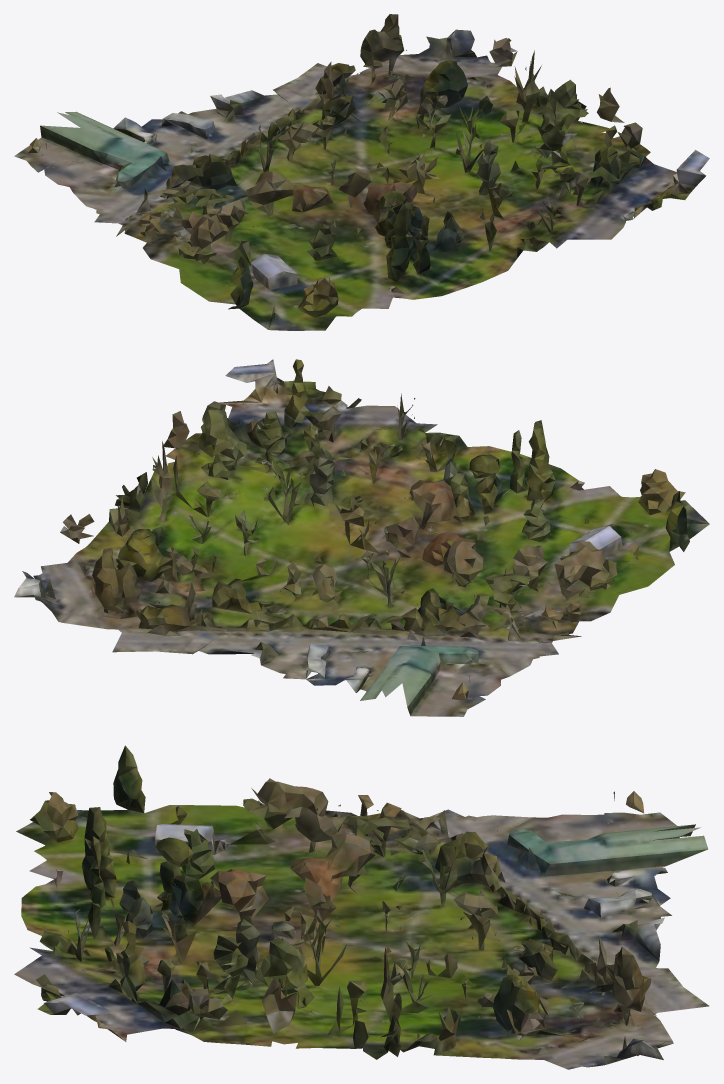
File: Tile_013_011_L16.gltf
3 views of the same model, one above another, from view 1: azimuth 30°, elevation 25°; view 2: azimuth 150°, elevation 25°; view 3: azimuth 270°, elevation 25° (orthographic). The views are drawn at different scales.
Parts seen in each view (by area): view 1: Tile_+013_+011_L16; view 2: Tile_+013_+011_L16; view 3: Tile_+013_+011_L16.
Boxes of the visible parts, left/top/right/bottom form: Tile_+013_+011_L16: left=14, top=14, right=709, bottom=330; Tile_+013_+011_L16: left=14, top=359, right=709, bottom=716; Tile_+013_+011_L16: left=14, top=745, right=709, bottom=1069.
Bounding box in the file's own units: 221 × 44.52 × 234.
Materials: 1 (1 with a texture image).
